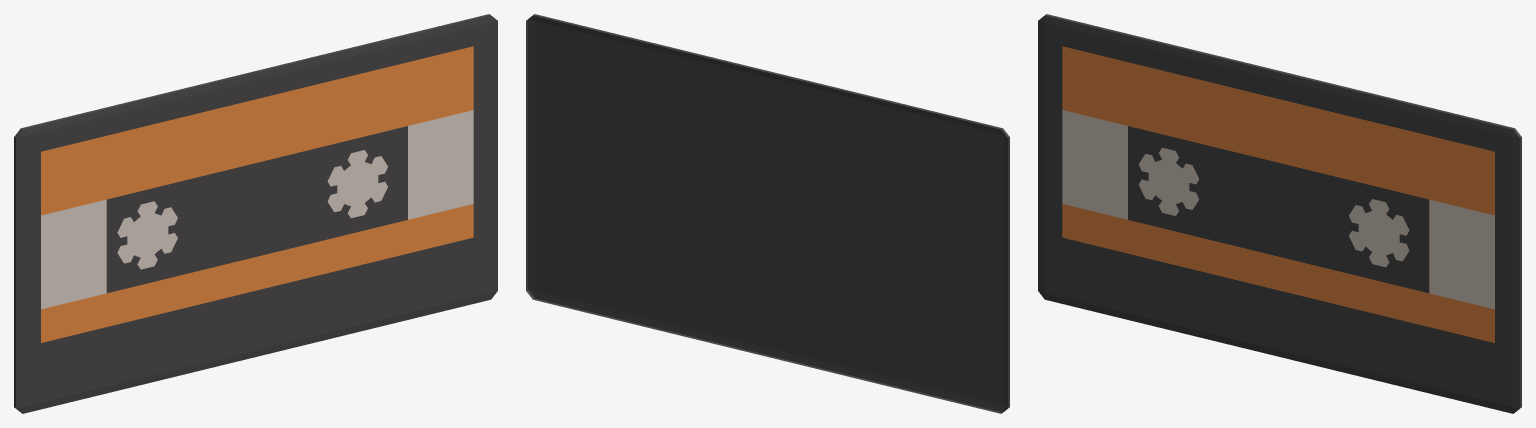
The model's file is Wall_Decoration_Audio_cassette_2.fbx.
3 views of the same model, side by side, from view 1: azimuth 30°, elevation 25°; view 2: azimuth 150°, elevation 25°; view 3: azimuth 330°, elevation 25° (orthographic).
Visible parts, largest first — view 1: Wall_Decoration_Audio_cassette_2; view 2: Wall_Decoration_Audio_cassette_2; view 3: Wall_Decoration_Audio_cassette_2.
Boxes of the visible parts, x1=… form: Wall_Decoration_Audio_cassette_2: x1=14, y1=14, x2=497, y2=413; Wall_Decoration_Audio_cassette_2: x1=526, y1=14, x2=1009, y2=413; Wall_Decoration_Audio_cassette_2: x1=1038, y1=14, x2=1521, y2=413.
Bounding box in the file's own units: 75.4 × 0.6116 × 42.5.
